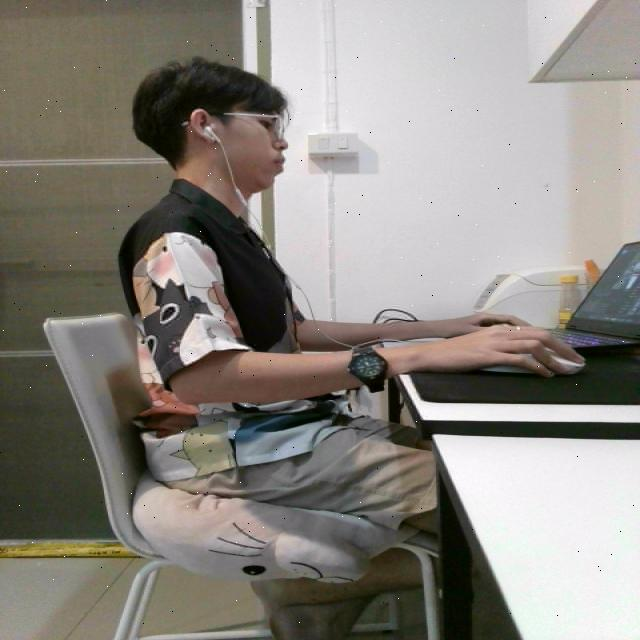Good: (111, 53, 584, 571)
